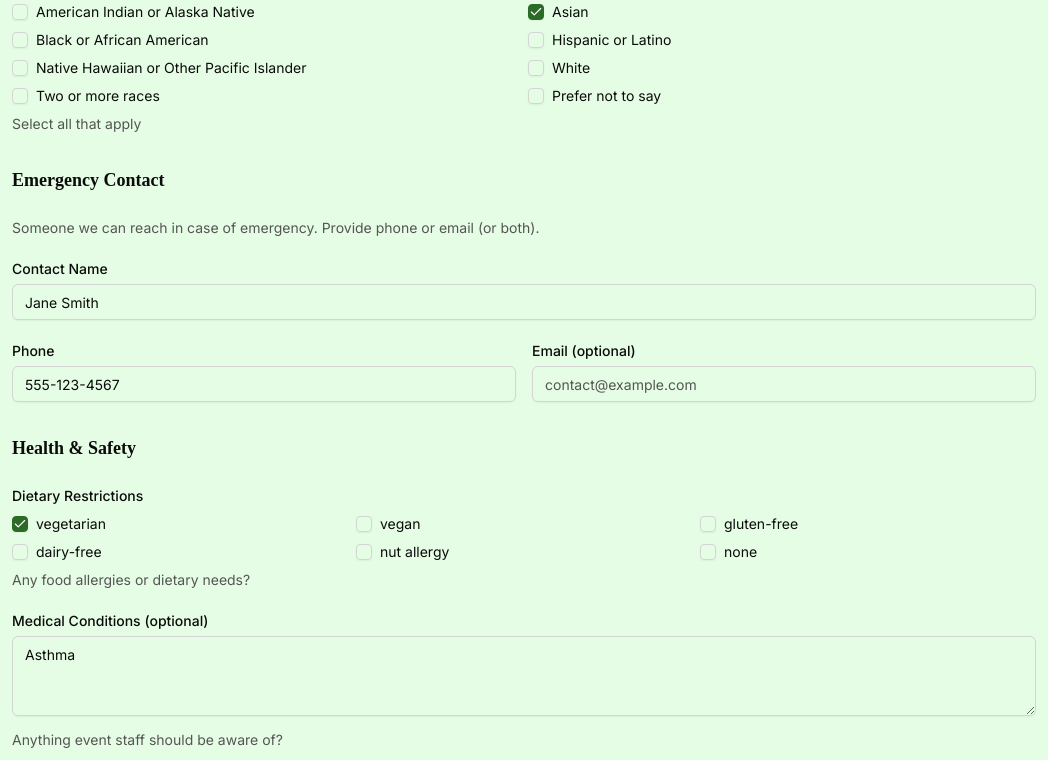
ProfileSettingsForm › validation › should show error for invalid email format
(page scrolled)
In the field with test id "profile-emergency-email-input": (784, 384) [532,366,1036,402], type "invalid-email"
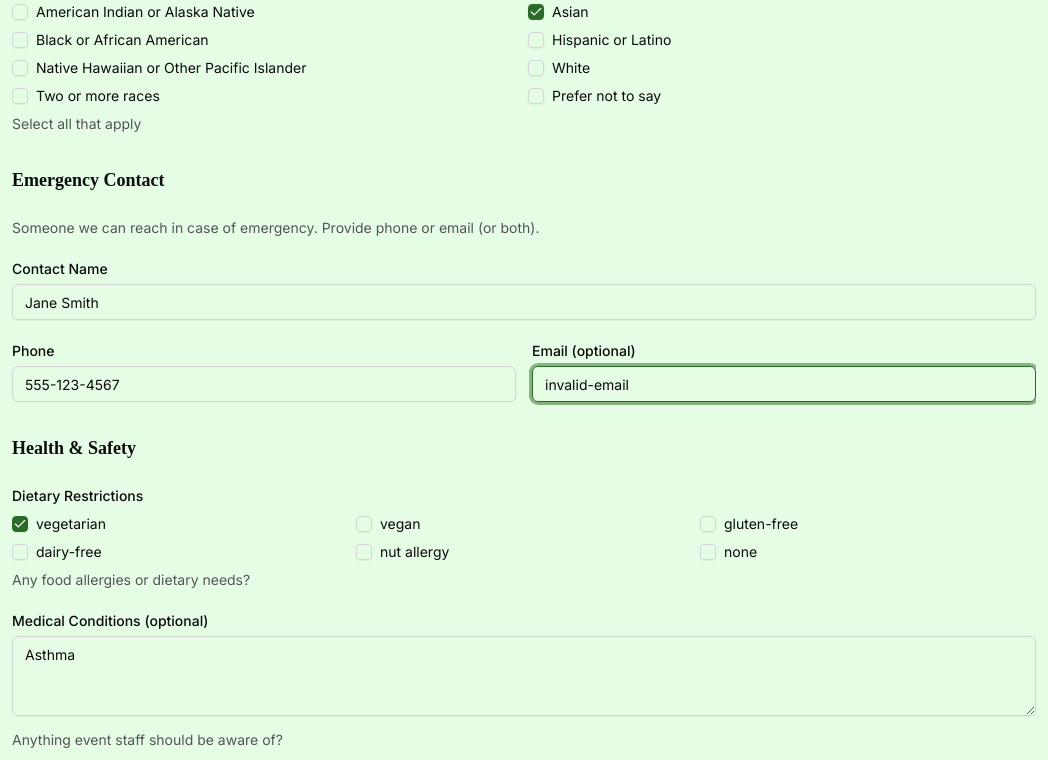
Press Tab
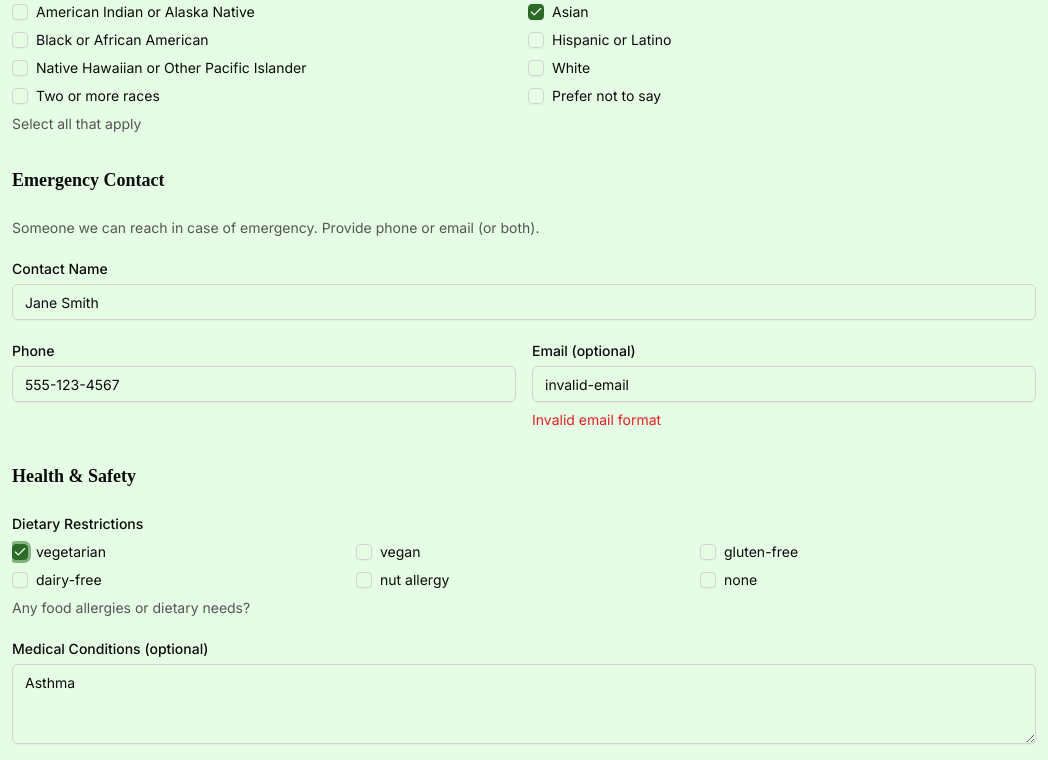
Now the text "Invalid email format" is shown, box [532,411,661,428]
